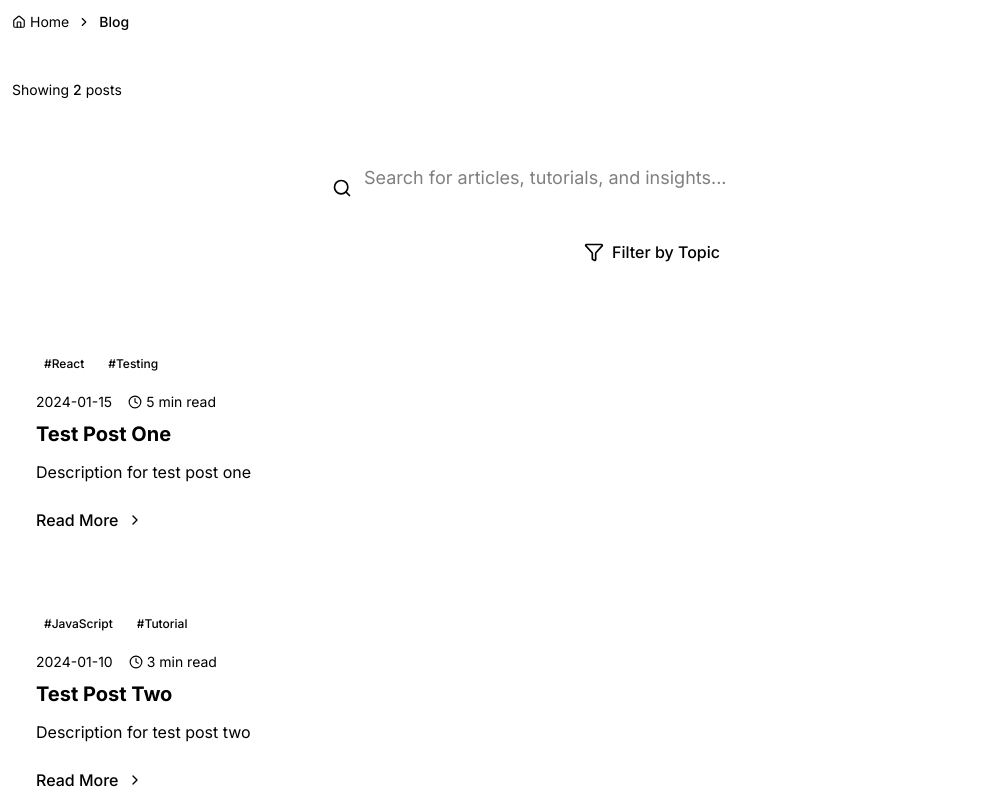
it: BlogList Component › filters posts by search query
Type "Test Post One" into the field with placeholder "Search for articles, tutorials, and insights..." at coordinates (652, 178), box [316,148,988,208]
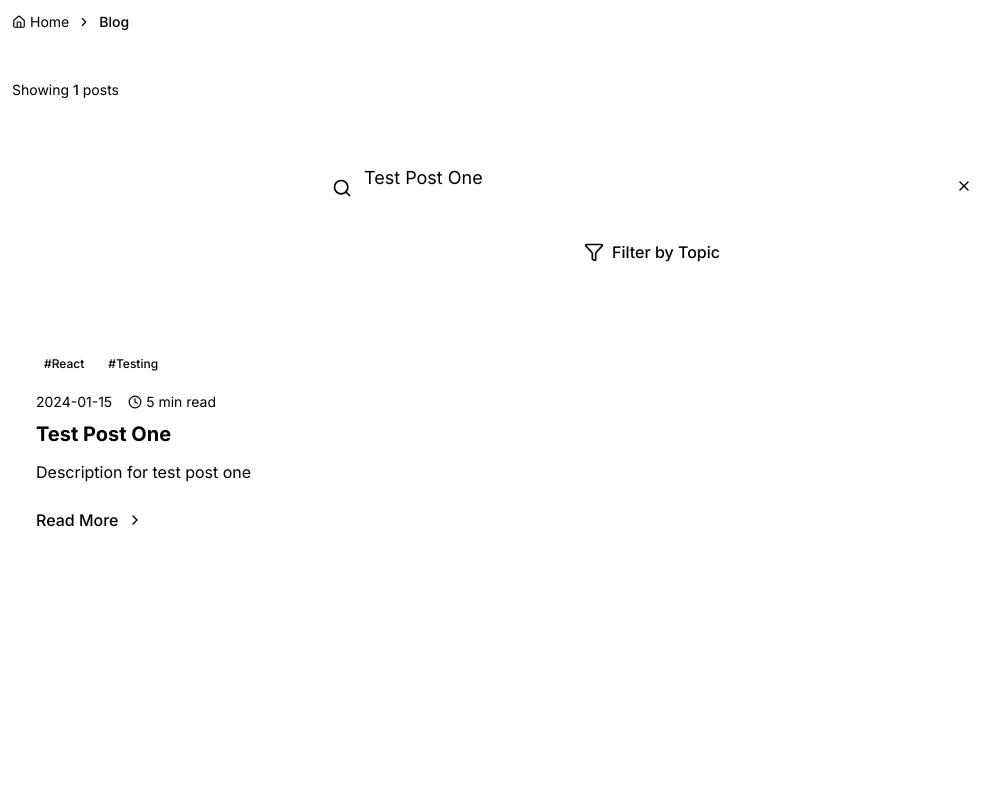
Expected: the link "Test Post One" is shown, [36,422,171,446]
Result: the link "Test Post Two" is gone
